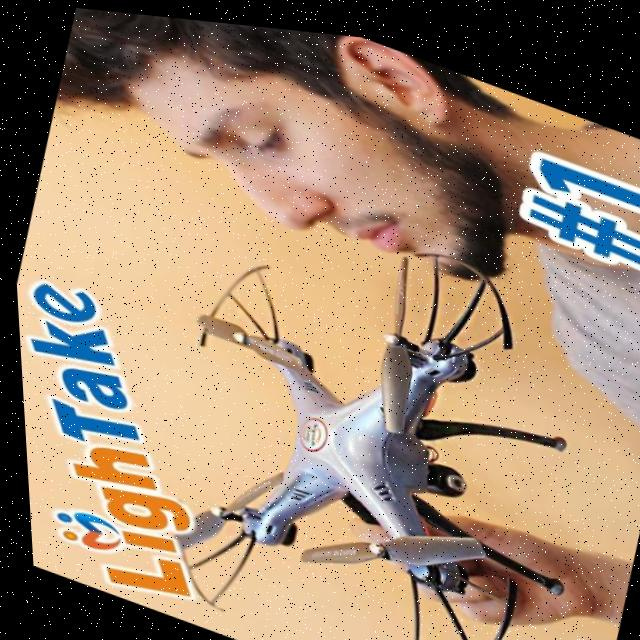drones: (78, 114, 628, 640)
